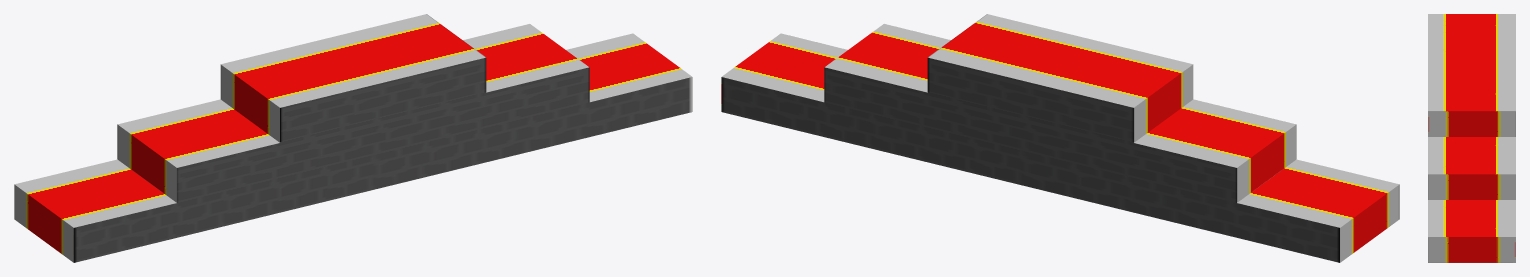
File: BoxDodai.fbx
3 renders of one model, left to right at view 1: azimuth 30°, elevation 25°; view 2: azimuth 150°, elevation 25°; view 3: azimuth 270°, elevation 25°, orthographic. The views are drawn at different scales.
Parts seen in each view (by area): view 1: 立方体.001; view 2: 立方体.001; view 3: 立方体.001.
Boxes of the visible parts, x1=… form: 立方体.001: x1=14, y1=14, x2=692, y2=262; 立方体.001: x1=721, y1=14, x2=1399, y2=262; 立方体.001: x1=1428, y1=14, x2=1515, y2=262.
Size of the model in its own units: 2400 by 388 by 400.
